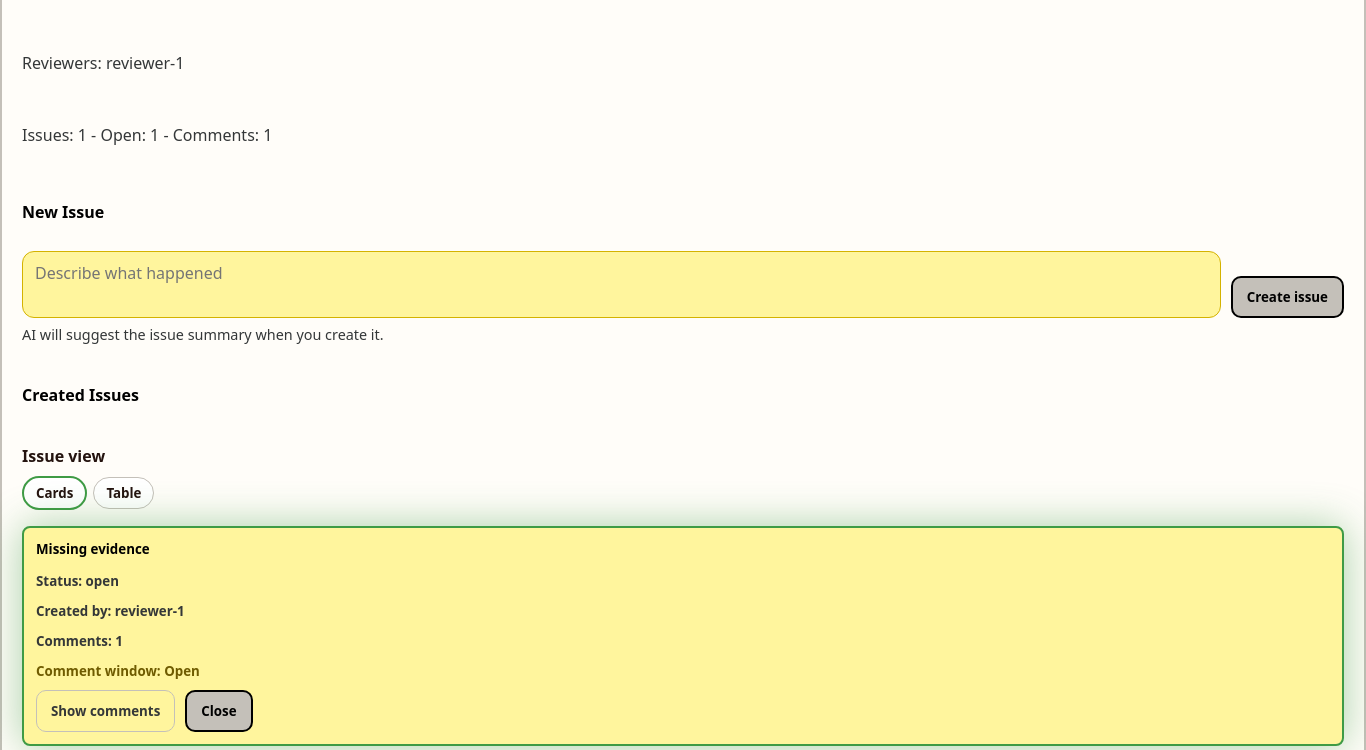
Test: ReviewIssuesPanel › keeps selected issue card comments hidden by default and lets the user show them
The width and height of the screenshot is (1366, 750).
(page scrolled)
Expected: the heading "New Issue" is shown, left=22, top=201, right=104, bottom=223
Expected: the text box with placeholder "Describe what happened" is shown, left=22, top=251, right=1221, bottom=318
Click the button "Show comments" at (106, 711), box left=36, top=690, right=175, bottom=732
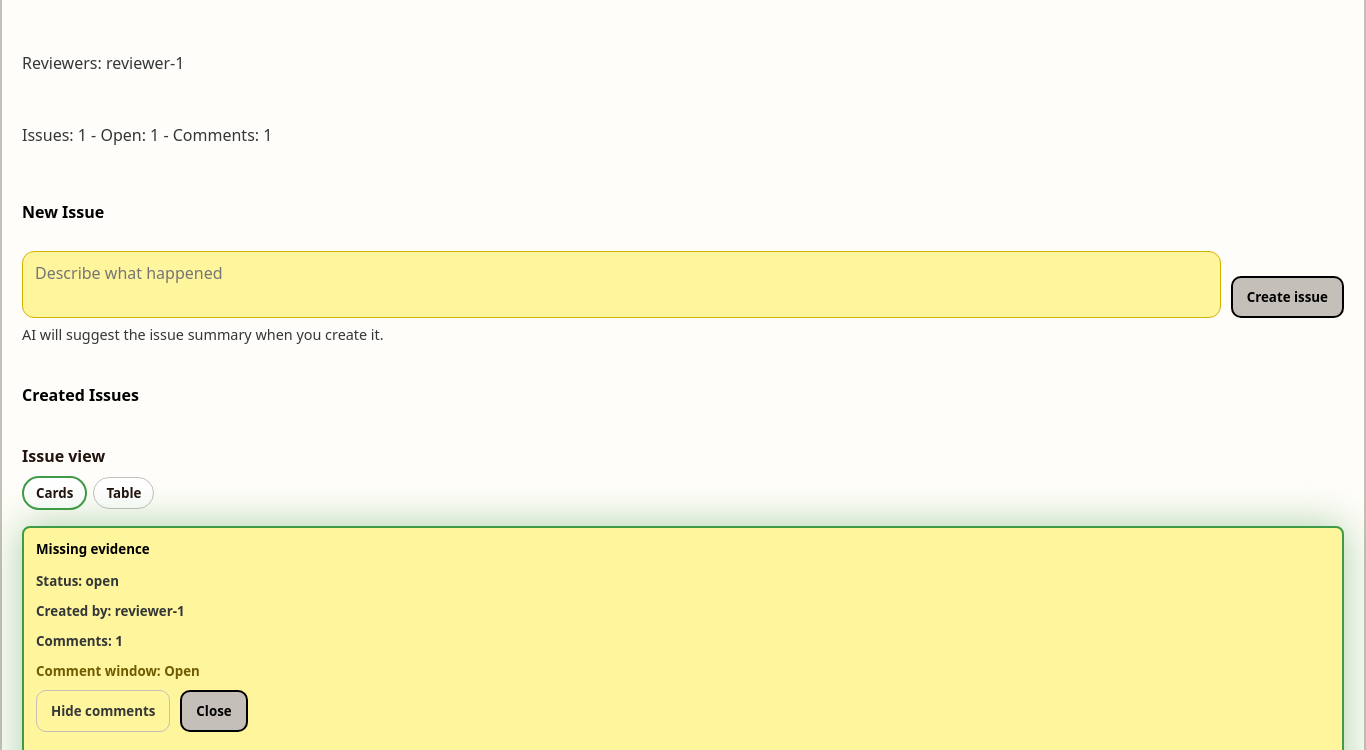
Now the button "Hide comments" is shown
Click the button "Hide comments" at (103, 711), box left=36, top=690, right=170, bottom=732
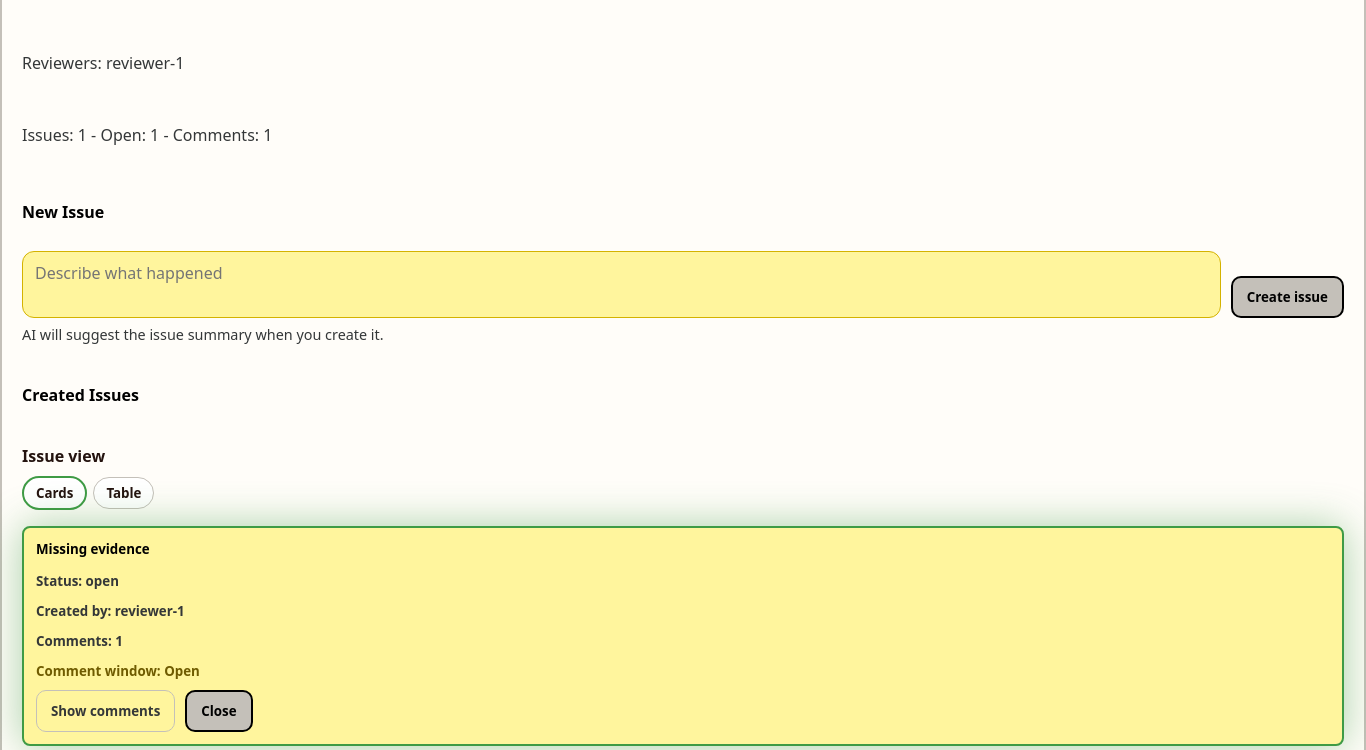
Now the button "Show comments" is shown, box left=36, top=690, right=175, bottom=732
